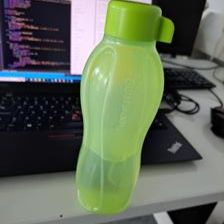bottle: (70, 1, 178, 214)
